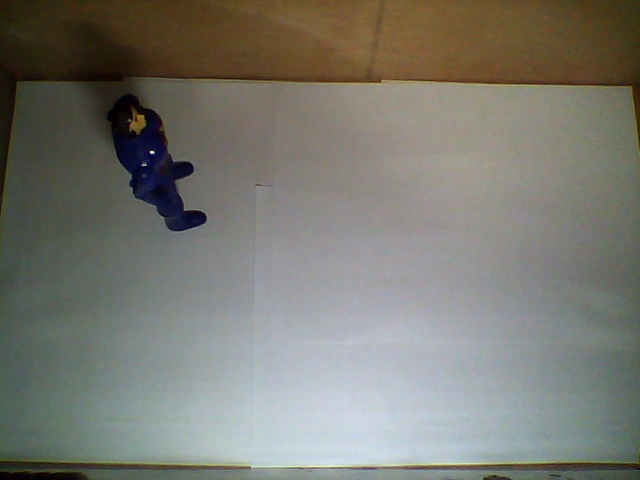human_figure: (108, 95, 207, 232)
